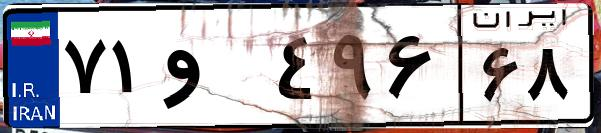1: (110, 28, 158, 98)
4: (270, 28, 330, 110)
6: (385, 28, 445, 110), (475, 38, 525, 113)
7: (57, 26, 110, 100)
8: (525, 38, 570, 115)
9: (330, 28, 385, 110)
و: (158, 20, 270, 120)
